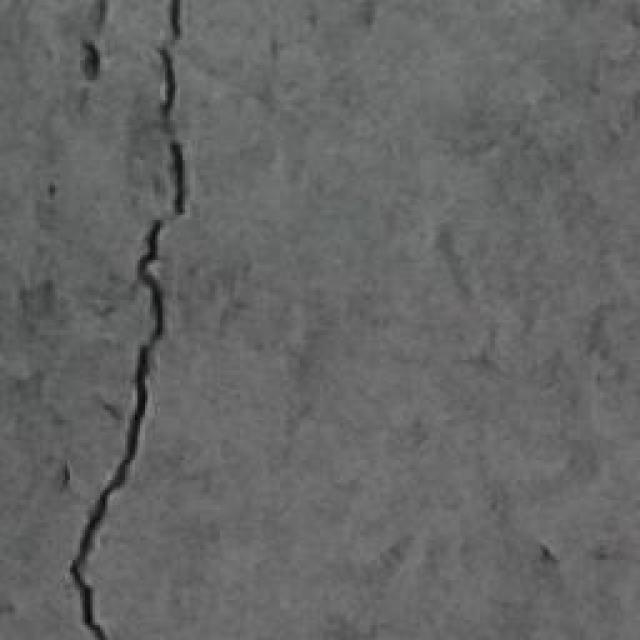Longitudinal: (31, 0, 200, 640)
